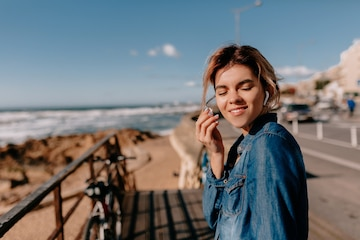earphone: (262, 85, 271, 106)
